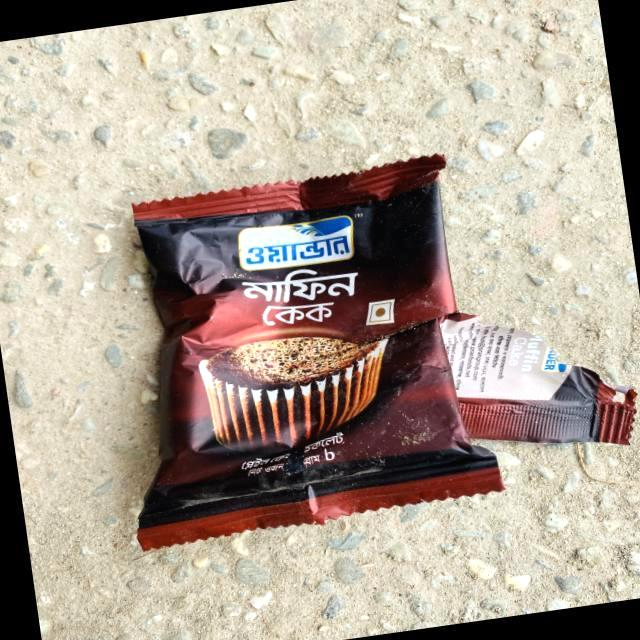packet: (155, 152, 439, 540)
